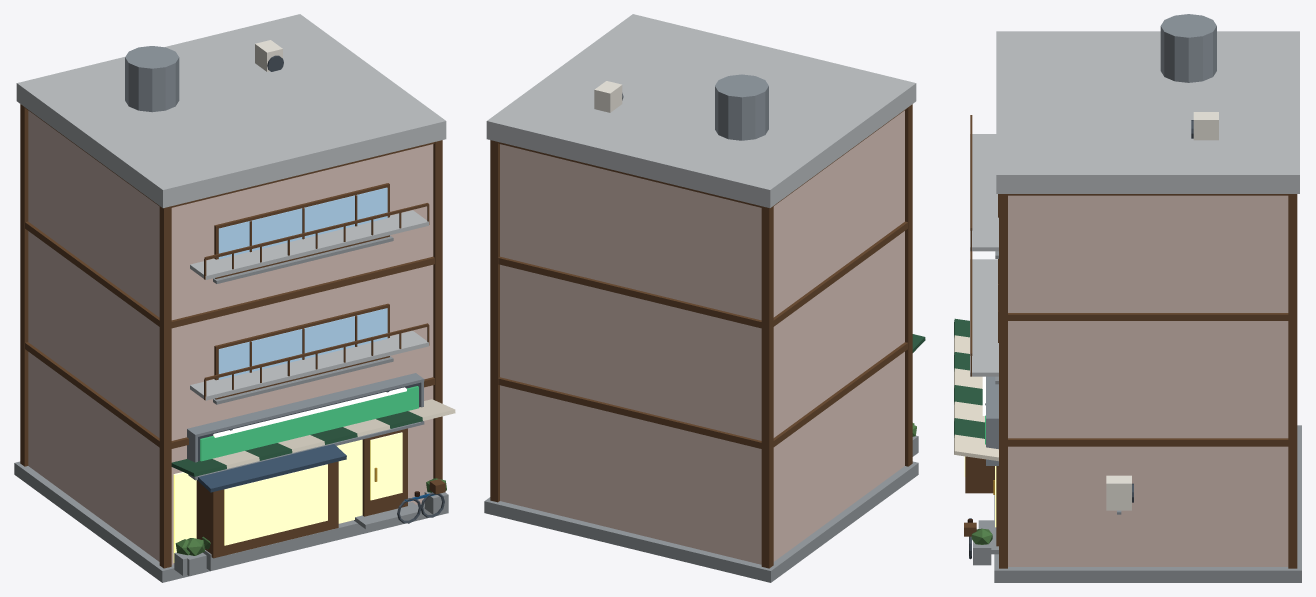
File: shop_cafe_3f.glb
The picture shows the model from 3 angles, left to right: view 1: azimuth 30°, elevation 25°; view 2: azimuth 150°, elevation 25°; view 3: azimuth 270°, elevation 25°; orthographic projection. The views are drawn at different scales.
Visible parts, largest first — view 1: body.015, parapet.006, bay_glass.002, base.015, win_glass.034, win_glass.031, post.060, sign_face.015, balcony_slab.032, balcony_slab.031, beam.047, bay.002 (+22 smaller); view 2: body.015, parapet.006, base.015, post.061, beam.047, beam.043, post.063, water_tank.006, post.060, beam.048, ac_body.024; view 3: body.015, parapet.006, base.015, post.063, water_tank.006, post.062, balcony_slab.031, balcony_slab.032, beam.043, beam.047, bay.002, ac_body.020 (+7 smaller).
Part boxes in pixels (bbox=[...]): body.015: bbox=[28, 110, 433, 564]; parapet.006: bbox=[16, 14, 446, 208]; bay_glass.002: bbox=[224, 464, 327, 545]; base.015: bbox=[14, 461, 448, 582]; win_glass.034: bbox=[218, 187, 387, 259]; win_glass.031: bbox=[218, 308, 387, 379]; post.060: bbox=[159, 206, 171, 568]; sign_face.015: bbox=[200, 386, 418, 461]; balcony_slab.032: bbox=[190, 210, 428, 279]; balcony_slab.031: bbox=[190, 331, 428, 400]; beam.047: bbox=[25, 221, 434, 328]; bay.002: bbox=[196, 461, 338, 558]; body.015: bbox=[500, 110, 904, 564]; parapet.006: bbox=[486, 14, 916, 207]; base.015: bbox=[484, 461, 918, 582]; post.061: bbox=[761, 206, 773, 568]; beam.047: bbox=[498, 221, 907, 328]; beam.043: bbox=[498, 342, 907, 448]; post.063: bbox=[490, 140, 499, 502]; water_tank.006: bbox=[715, 74, 768, 140]; post.060: bbox=[905, 104, 912, 466]; beam.048: bbox=[498, 107, 907, 207]; ac_body.024: bbox=[594, 81, 622, 112]; body.015: bbox=[1008, 195, 1288, 566]; parapet.006: bbox=[996, 31, 1299, 193]; base.015: bbox=[994, 425, 1301, 582]; post.063: bbox=[1288, 194, 1297, 568]; water_tank.006: bbox=[1160, 14, 1216, 82]; post.062: bbox=[999, 194, 1007, 568]; balcony_slab.031: bbox=[970, 259, 998, 376]; balcony_slab.032: bbox=[970, 134, 998, 251]; beam.043: bbox=[1008, 438, 1288, 446]; beam.047: bbox=[1008, 313, 1288, 320]; bay.002: bbox=[965, 456, 994, 493]; ac_body.020: bbox=[1106, 475, 1131, 510].
Bounding box in the file's own units: 7.84 × 11.05 × 7.67.
